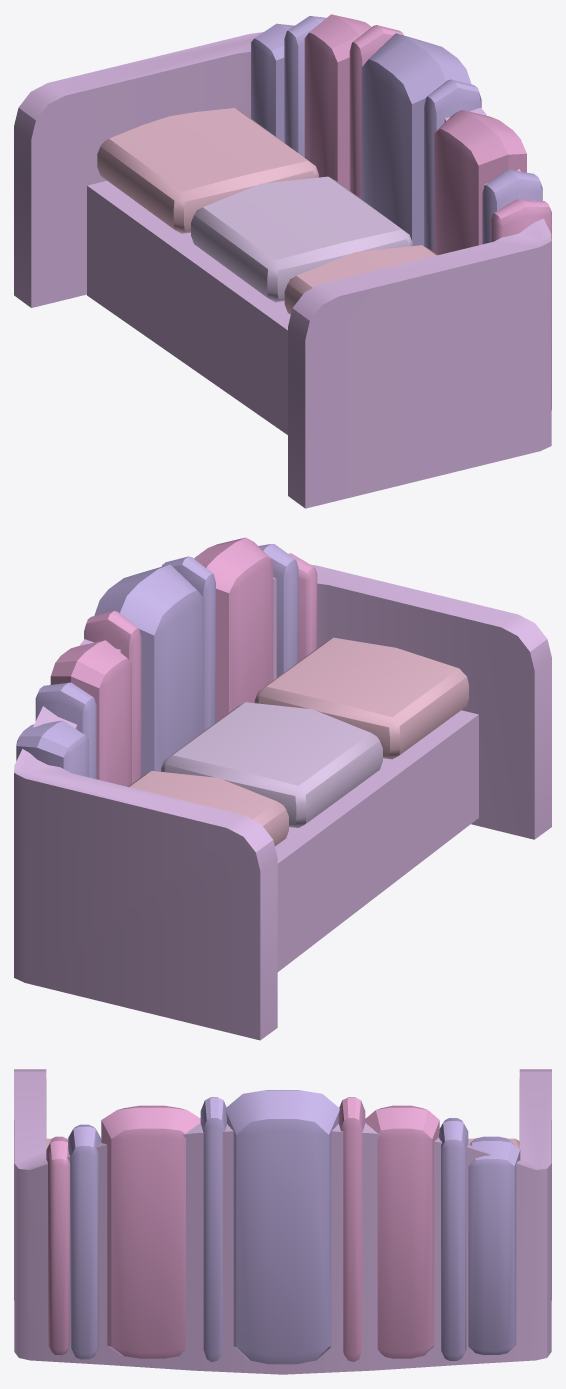
File: mueble_mini.fbx
3 renders of one model, top to bottom at view 1: azimuth 30°, elevation 25°; view 2: azimuth 150°, elevation 25°; view 3: azimuth 270°, elevation 25°, orthographic. The views are drawn at different scales.
Visible parts, largest first — view 1: mueble_mini; view 2: mueble_mini; view 3: mueble_mini.
Boxes of the visible parts, x1,y1,x2,y2 form: mueble_mini: (14, 14, 551, 508); mueble_mini: (14, 537, 551, 1040); mueble_mini: (14, 1069, 551, 1374).
Bounding box in the file's own units: 2.31 × 2.23 × 3.97.
